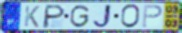G: (68, 4, 90, 29)
J: (92, 4, 114, 30)
K: (23, 5, 41, 28)
O: (120, 4, 142, 30)
P: (42, 3, 67, 29), (141, 4, 164, 28)
